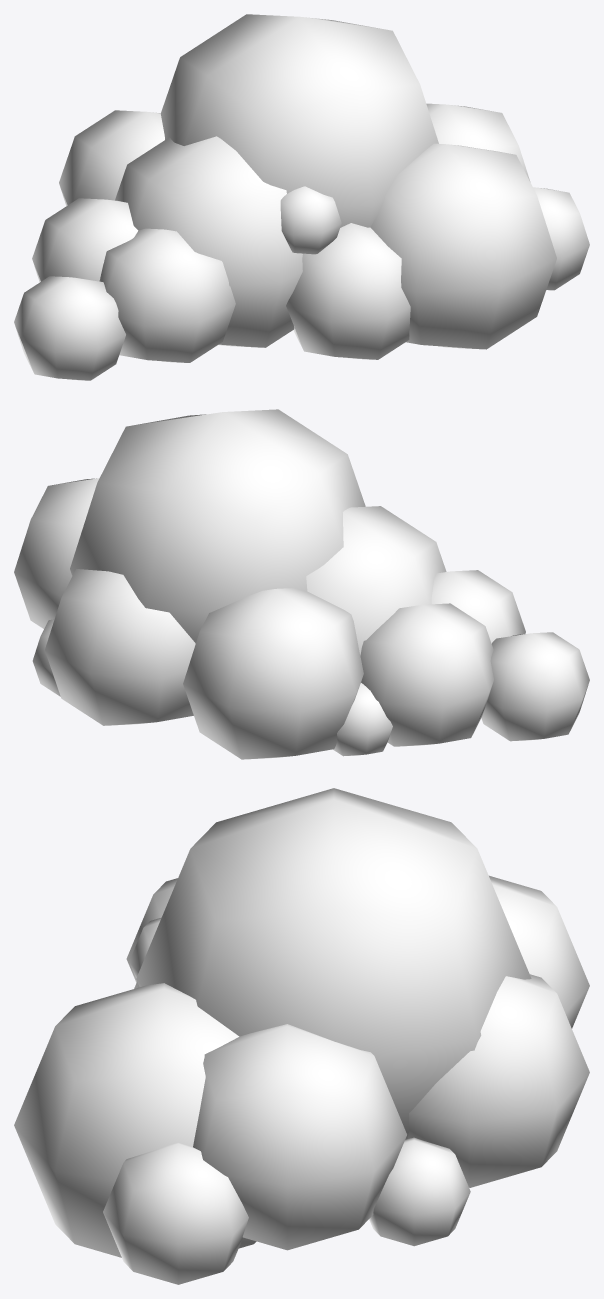
Rendered from nuage_L.glb.
3 renders of one model, top to bottom at view 1: azimuth 30°, elevation 25°; view 2: azimuth 150°, elevation 25°; view 3: azimuth 270°, elevation 25°, orthographic. The views are drawn at different scales.
Parts seen in each view (by area): view 1: NUAGE.L, Cube.default.027, NUAGE.009, Cube.default.022, Cube.default.021, Cube.default.014, Cube.default.020, NUAGE.012, NUAGE.010, Cube.default.025, Cube.default.026; view 2: NUAGE.L, NUAGE.012, NUAGE.008, Cube.default.020, NUAGE.009, Cube.default.014, NUAGE.010, Cube.default.022, Cube.default.024, Cube.default.023; view 3: NUAGE.L, NUAGE.010, Cube.default.027, NUAGE.008, Cube.default.025, Cube.default.023, NUAGE.012, Cube.default.022, Cube.default.026.
Boxes of the visible parts, x1,y1,x2,y2 form: NUAGE.L: (160,14,438,227); Cube.default.027: (370,143,556,349); NUAGE.009: (115,136,302,347); Cube.default.022: (99,228,235,362); Cube.default.021: (286,223,410,359); Cube.default.014: (14,276,125,380); Cube.default.020: (32,198,138,282); NUAGE.012: (59,110,164,205); NUAGE.010: (426,103,530,182); Cube.default.025: (533,187,589,290); Cube.default.026: (280,186,341,254); NUAGE.L: (70,409,365,643); NUAGE.012: (183,588,363,759); NUAGE.008: (45,569,195,725); Cube.default.020: (360,603,493,746); NUAGE.009: (306,506,446,655); Cube.default.014: (481,632,589,741); NUAGE.010: (14,478,99,628); Cube.default.022: (431,570,525,643); Cube.default.024: (333,683,392,756); Cube.default.023: (32,619,60,696); NUAGE.L: (136,788,531,1139); NUAGE.010: (193,1024,406,1250); Cube.default.027: (14,983,256,1257); NUAGE.008: (407,974,589,1187); Cube.default.025: (103,1142,248,1284); Cube.default.023: (369,1137,470,1246); NUAGE.012: (489,875,589,1028); Cube.default.022: (126,878,177,982); Cube.default.026: (129,917,161,978).
Size of the model in its own units: 9.2 by 4.99 by 6.38.
1 material, 1 textured.
